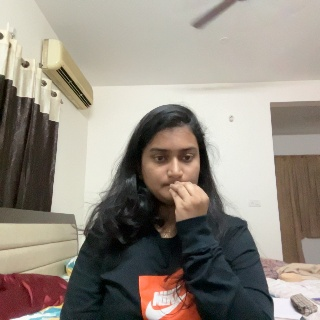Food: (167, 179, 217, 256)
